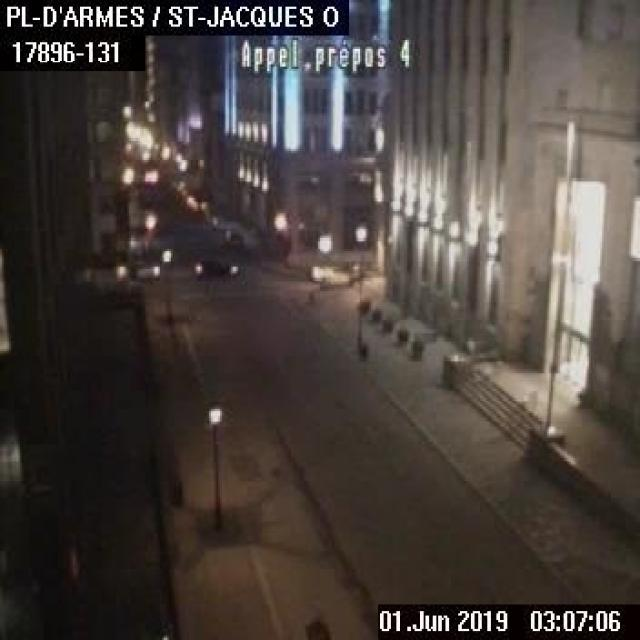vehicle: (192, 257, 238, 279), (116, 258, 159, 278), (310, 262, 348, 281), (221, 227, 242, 245), (187, 192, 206, 210)
